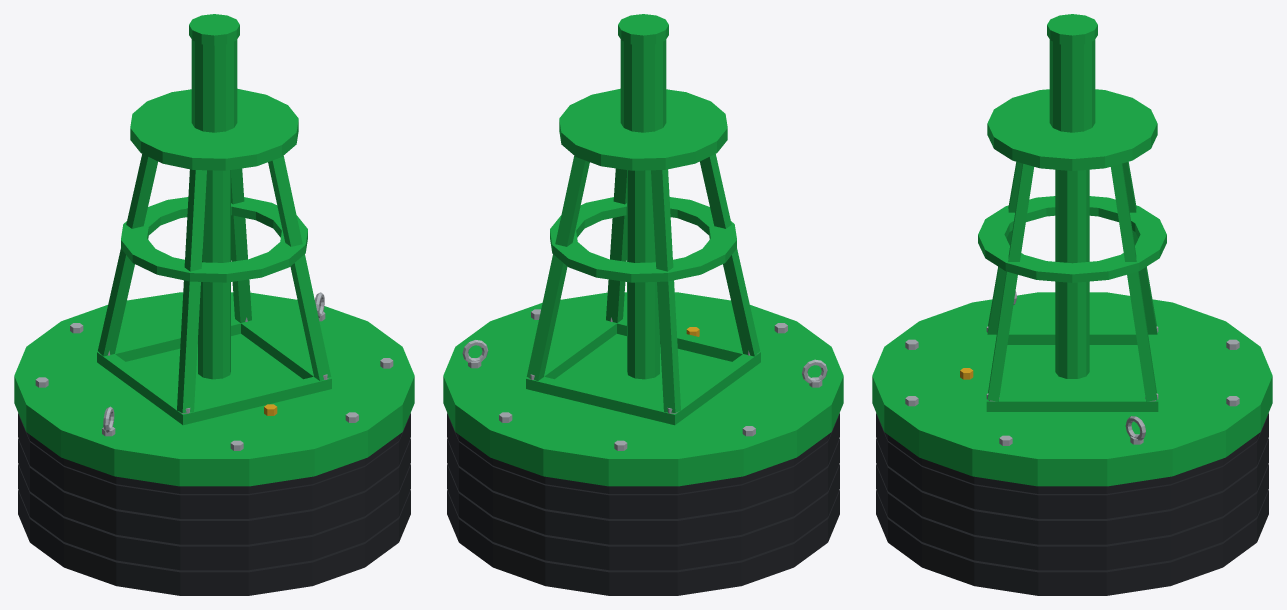
File: navigation buoy green.fbx
3 renders of one model, left to right at view 1: azimuth 30°, elevation 25°; view 2: azimuth 150°, elevation 25°; view 3: azimuth 270°, elevation 25°, orthographic.
Parts seen in each view (by area): view 1: Buoy_Green_Rubber_Groove_1.001; view 2: Buoy_Green_Rubber_Groove_1.001; view 3: Buoy_Green_Rubber_Groove_1.001.
Boxes of the visible parts, x1,y1,x2,y2 form: Buoy_Green_Rubber_Groove_1.001: (14, 14, 414, 595); Buoy_Green_Rubber_Groove_1.001: (443, 14, 843, 595); Buoy_Green_Rubber_Groove_1.001: (872, 14, 1272, 595).
Bounding box in the file's own units: 209 × 286 × 212.
